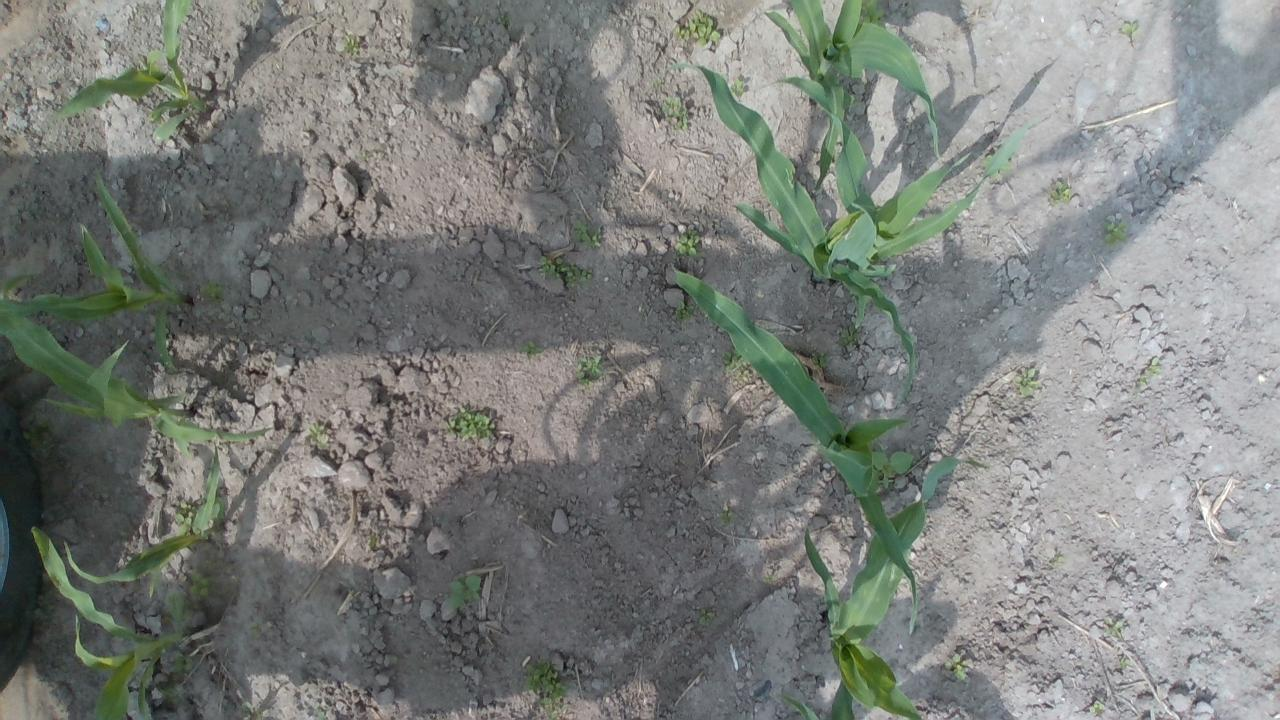Maize: (648, 58, 1053, 395), (668, 266, 918, 636), (804, 456, 988, 715), (0, 292, 273, 442), (0, 169, 182, 376), (761, 0, 944, 190), (32, 525, 190, 720), (53, 440, 225, 601), (52, 0, 208, 144), (778, 673, 856, 720)
Weeds: (524, 659, 572, 720), (670, 9, 721, 47), (536, 256, 594, 288), (442, 404, 494, 439), (870, 450, 914, 489), (446, 570, 484, 612), (188, 558, 217, 600), (574, 354, 604, 388), (721, 347, 750, 382), (570, 220, 603, 250), (660, 96, 688, 131), (981, 154, 1013, 180), (1136, 357, 1162, 389), (943, 653, 971, 682), (1102, 219, 1130, 248), (1014, 367, 1040, 397), (158, 687, 192, 709), (674, 229, 700, 257), (168, 649, 194, 675), (838, 324, 862, 350), (240, 700, 270, 720), (1050, 180, 1074, 205), (173, 500, 196, 526), (198, 278, 226, 299), (671, 300, 694, 323), (520, 339, 545, 360), (308, 422, 328, 446), (1104, 616, 1124, 638), (811, 348, 829, 368), (342, 33, 359, 54), (312, 700, 328, 720), (698, 608, 715, 626), (730, 77, 746, 96), (719, 506, 736, 523), (250, 618, 264, 638), (1120, 22, 1140, 36), (1088, 700, 1105, 714), (1116, 658, 1130, 668), (1051, 556, 1065, 566), (762, 574, 778, 582), (366, 536, 376, 546), (500, 15, 509, 25)
